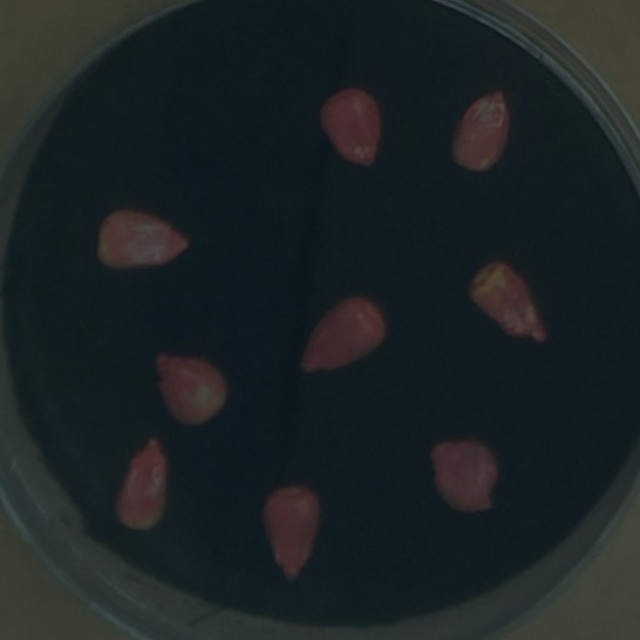Zea mays: (288, 283, 397, 388), (459, 249, 556, 352), (89, 199, 198, 280), (253, 477, 331, 590), (417, 426, 507, 521), (308, 79, 392, 178), (104, 430, 178, 542), (145, 344, 236, 434), (440, 84, 519, 182)
